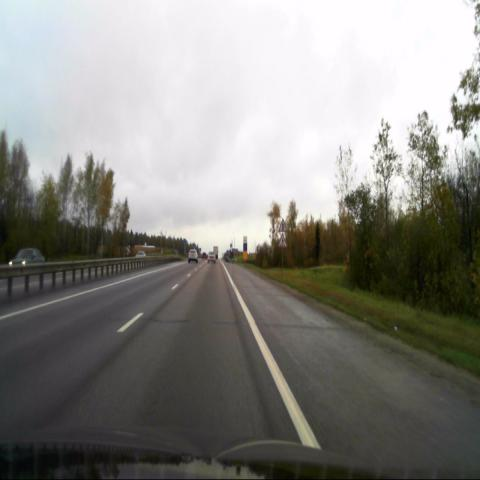1_22: (278, 233, 287, 248)
2_3_2: (278, 218, 287, 233)
